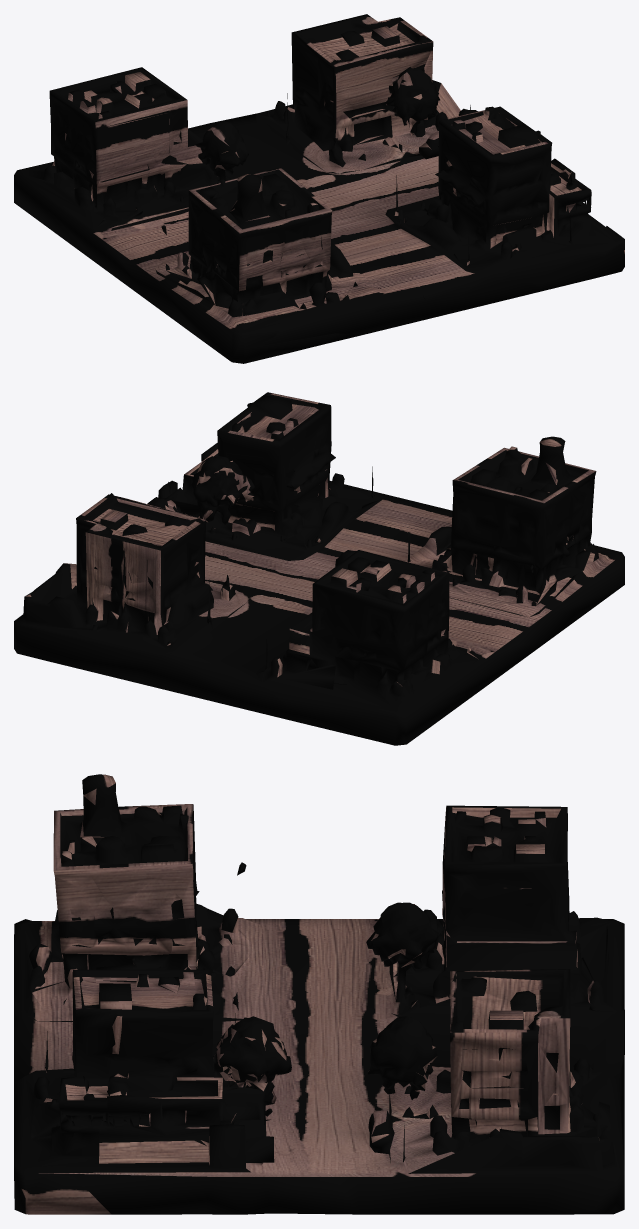
File: street.fbx
The picture shows the model from 3 angles, top to bottom: view 1: azimuth 30°, elevation 25°; view 2: azimuth 150°, elevation 25°; view 3: azimuth 270°, elevation 25°; orthographic projection. The views are drawn at different scales.
Parts seen in each view (by area): view 1: Mesh1.0; view 2: Mesh1.0; view 3: Mesh1.0.
Part boxes in pixels (x1,y1,x2,y2): Mesh1.0: [14, 14, 624, 363]; Mesh1.0: [14, 392, 624, 745]; Mesh1.0: [14, 774, 624, 1214].
Bounding box in the file's own units: 191 × 73.54 × 191.
